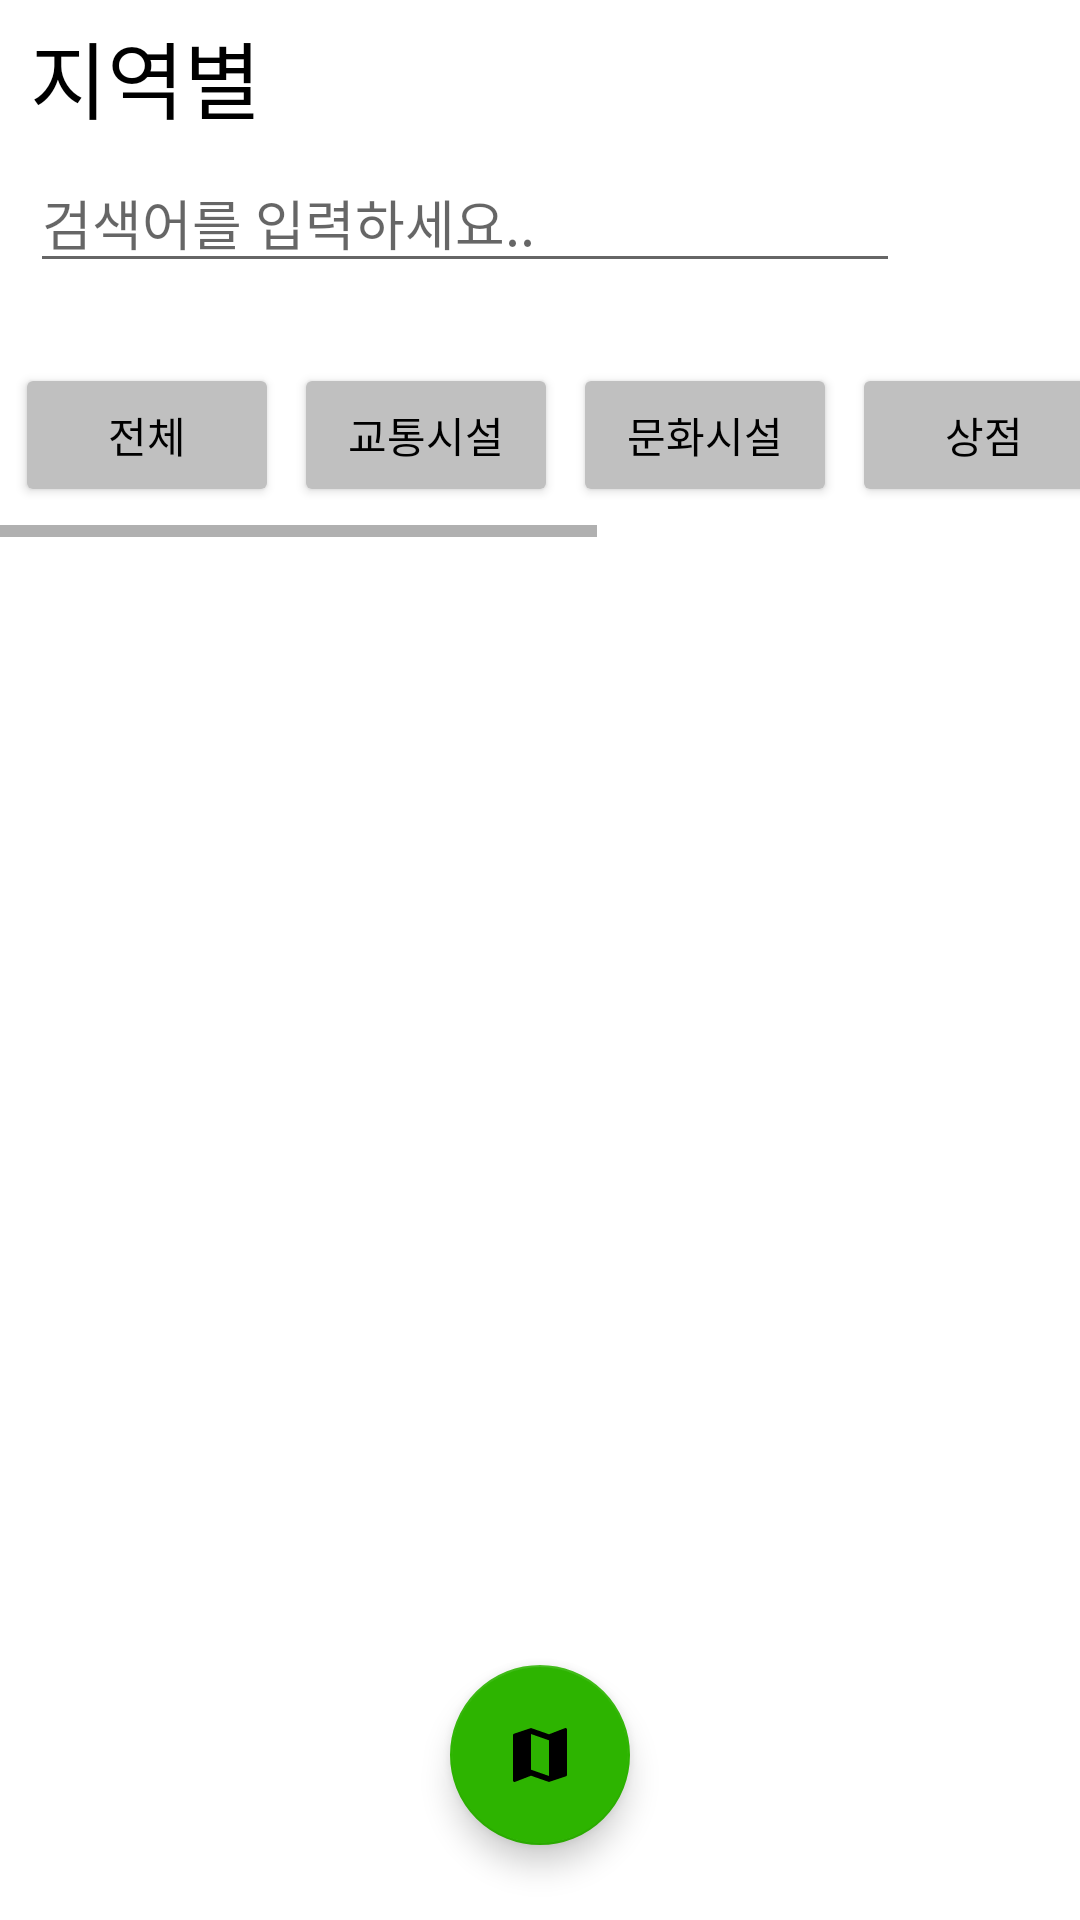

Point at icon controls on the screen. Image size 1080w x 1920h, points as (x=x, y=y).
map: (x=540, y=1755)
